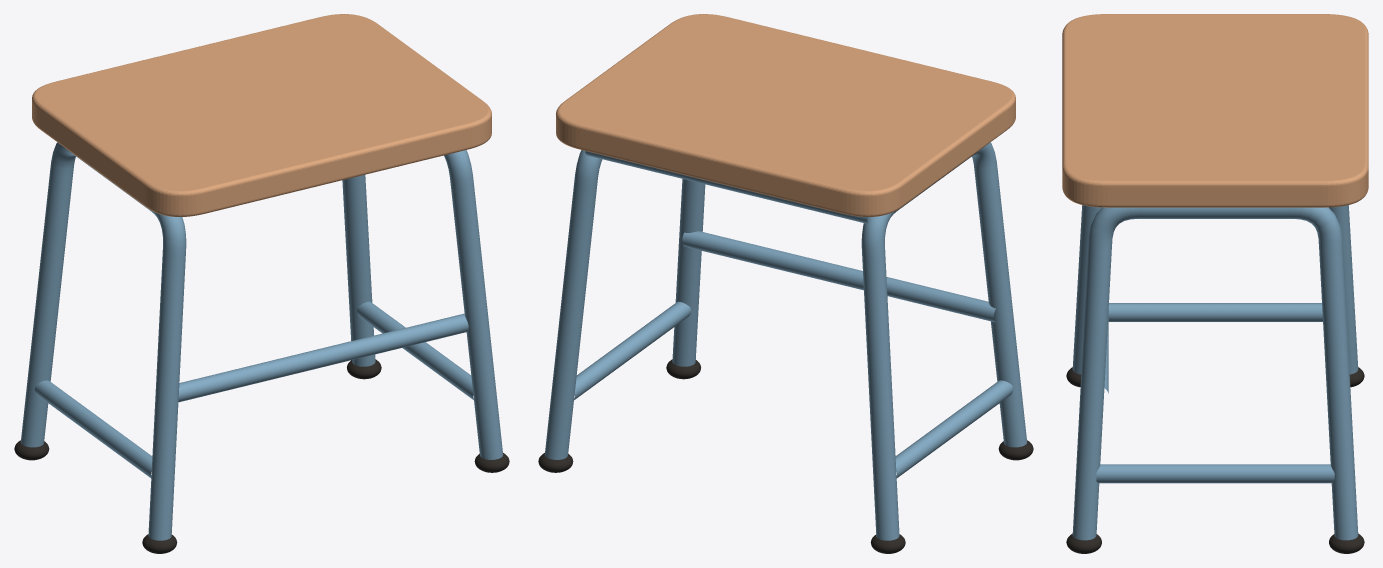
The model's file is cartoon-desk.glb.
The picture shows the model from 3 angles, left to right: view 1: azimuth 30°, elevation 25°; view 2: azimuth 150°, elevation 25°; view 3: azimuth 270°, elevation 25°; orthographic projection. The views are drawn at different scales.
Visible parts, largest first — view 1: top, hoop_left, hoop_right, crossbar_front, stretcher_left, stretcher_right; view 2: top, hoop_left, hoop_right, crossbar_front, stretcher_left, stretcher_right, crossbar_back; view 3: top, hoop_right, stretcher_right, stretcher_left, hoop_left, foot_right_back, foot_right_front.
Boxes of the visible parts, box(x1,y1,x2,y2) form: top: box(32, 14, 491, 216); hoop_left: box(20, 142, 186, 540); hoop_right: box(342, 150, 503, 459); crossbar_front: box(178, 313, 468, 402); stretcher_left: box(34, 380, 152, 478); stretcher_right: box(357, 301, 473, 399); top: box(556, 14, 1015, 216); hoop_left: box(861, 142, 1027, 540); hoop_right: box(544, 150, 705, 459); crossbar_front: box(682, 231, 995, 322); stretcher_left: box(895, 380, 1013, 478); stretcher_right: box(574, 301, 690, 399); crossbar_back: box(585, 151, 868, 223); top: box(1062, 14, 1368, 207); hoop_right: box(1072, 207, 1358, 540); stretcher_right: box(1096, 464, 1334, 483); stretcher_left: box(1108, 303, 1322, 321); hoop_left: box(1072, 205, 1358, 374); foot_right_back: box(1329, 533, 1364, 553); foot_right_front: box(1066, 533, 1101, 553).
Bounding box in the file's own units: 0.72 × 0.6855 × 0.514.
